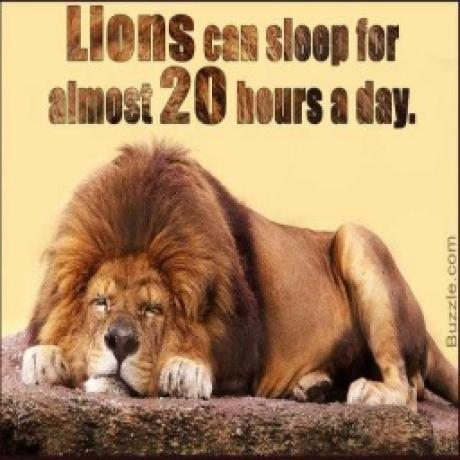Lion: (0, 140, 460, 409)
